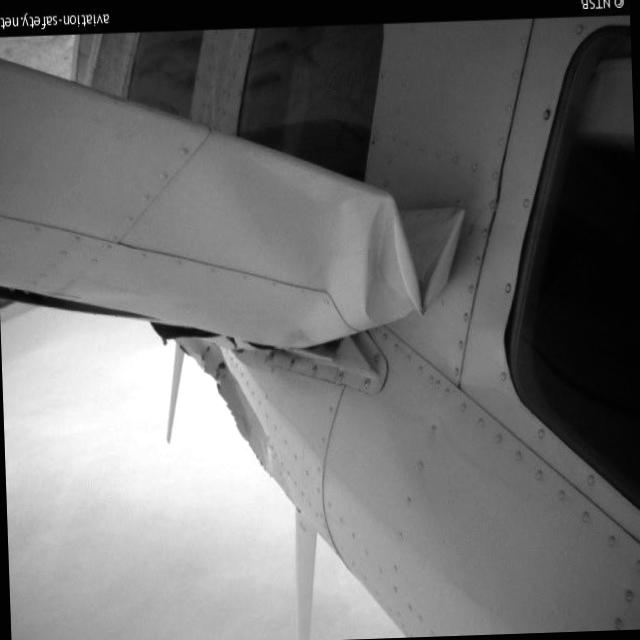dent: (356, 182, 474, 328)
